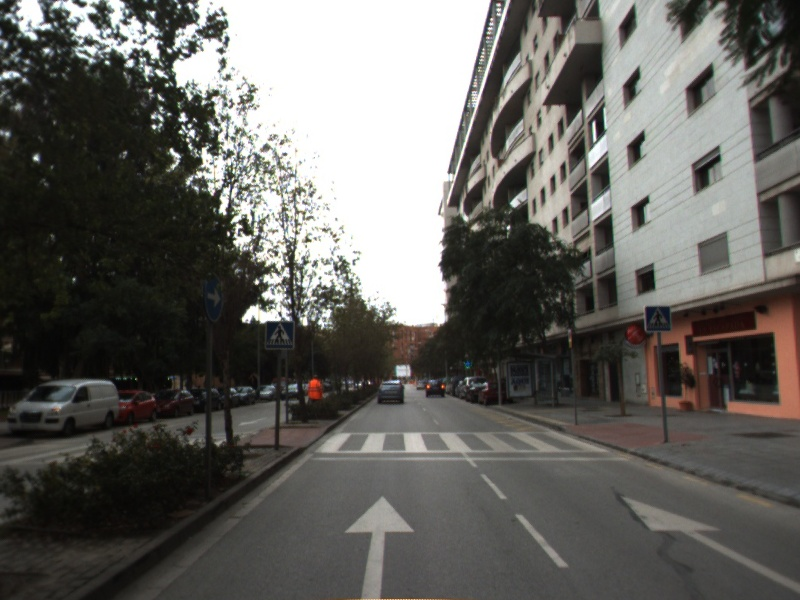STRAIGHT: (617, 493, 800, 593), (342, 493, 417, 600)
